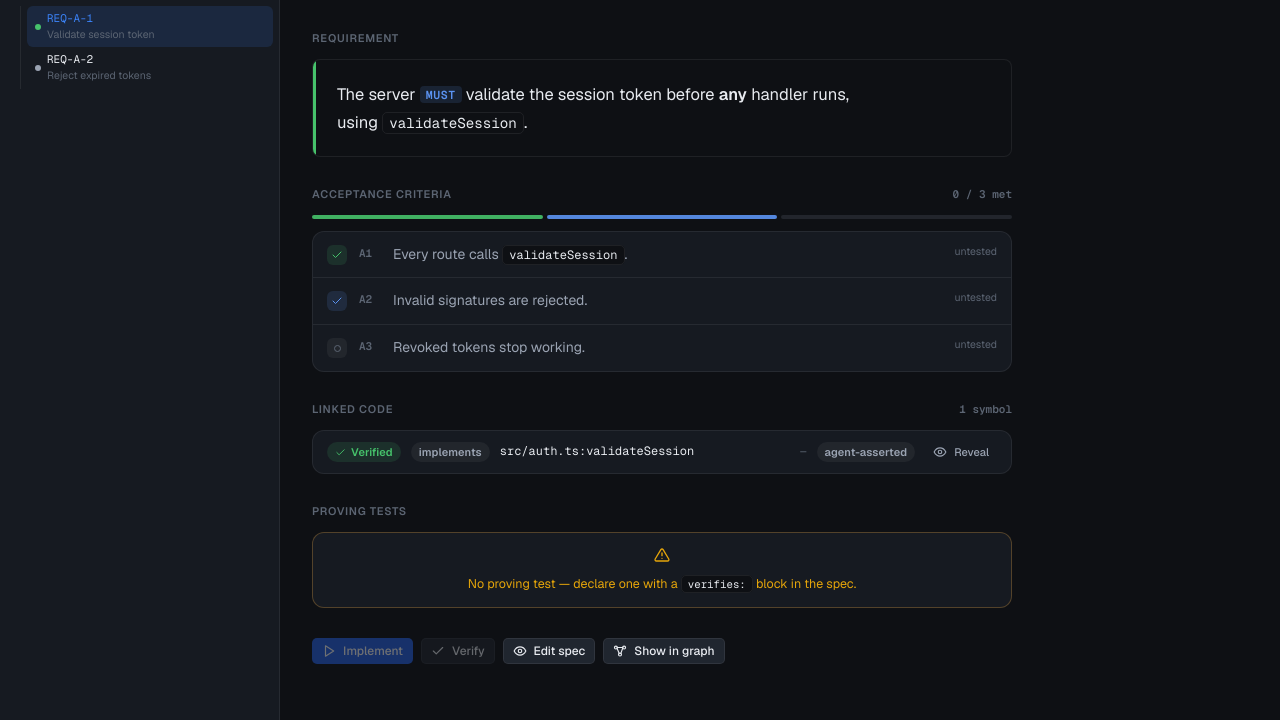
Test case: SpecEditor (REQ-DESKTOP-006…011) › 007: Save gates on by-value dirtiness; indicator carries its text label
Click the button "Edit spec".
click(549, 651)  # box [503, 638, 595, 664]
(page scrolled)
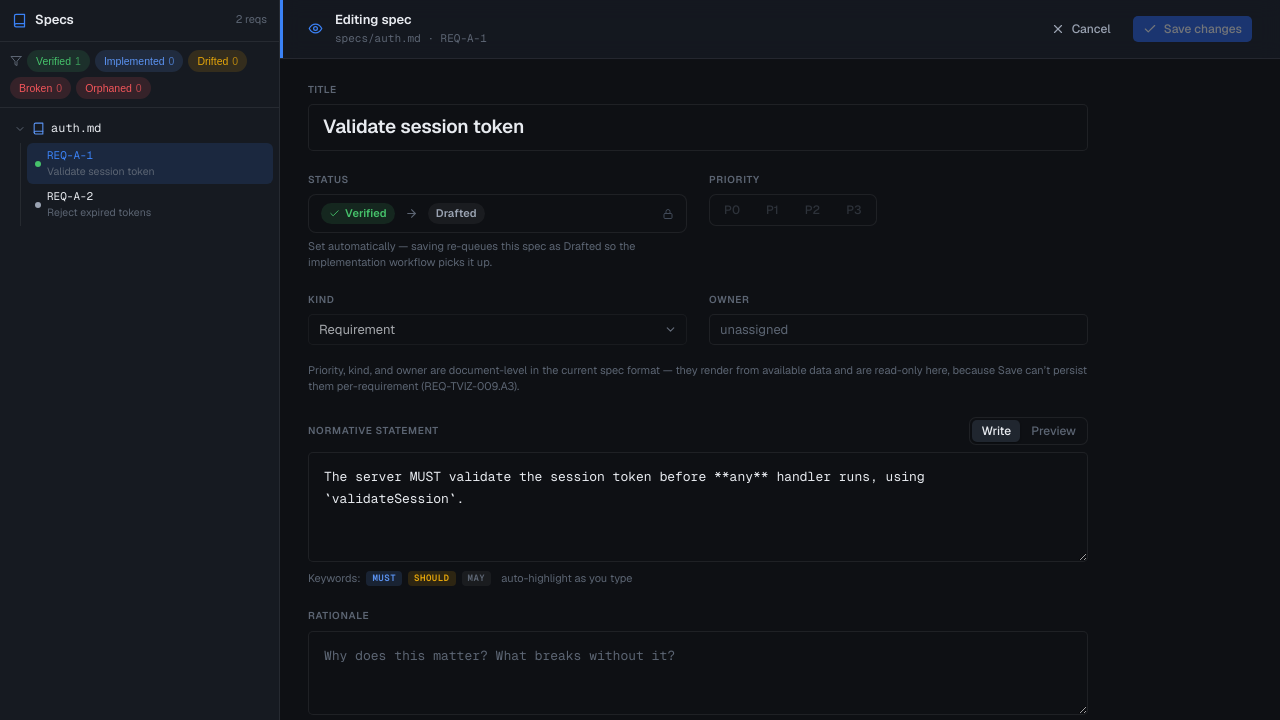
Expected: the text "Unsaved changes" is not shown
Now the button "Save changes" is disabled, box [1133, 16, 1252, 42]
Replace the text in the field named "title" with "Changed" at (698, 128), box [308, 104, 1088, 151]
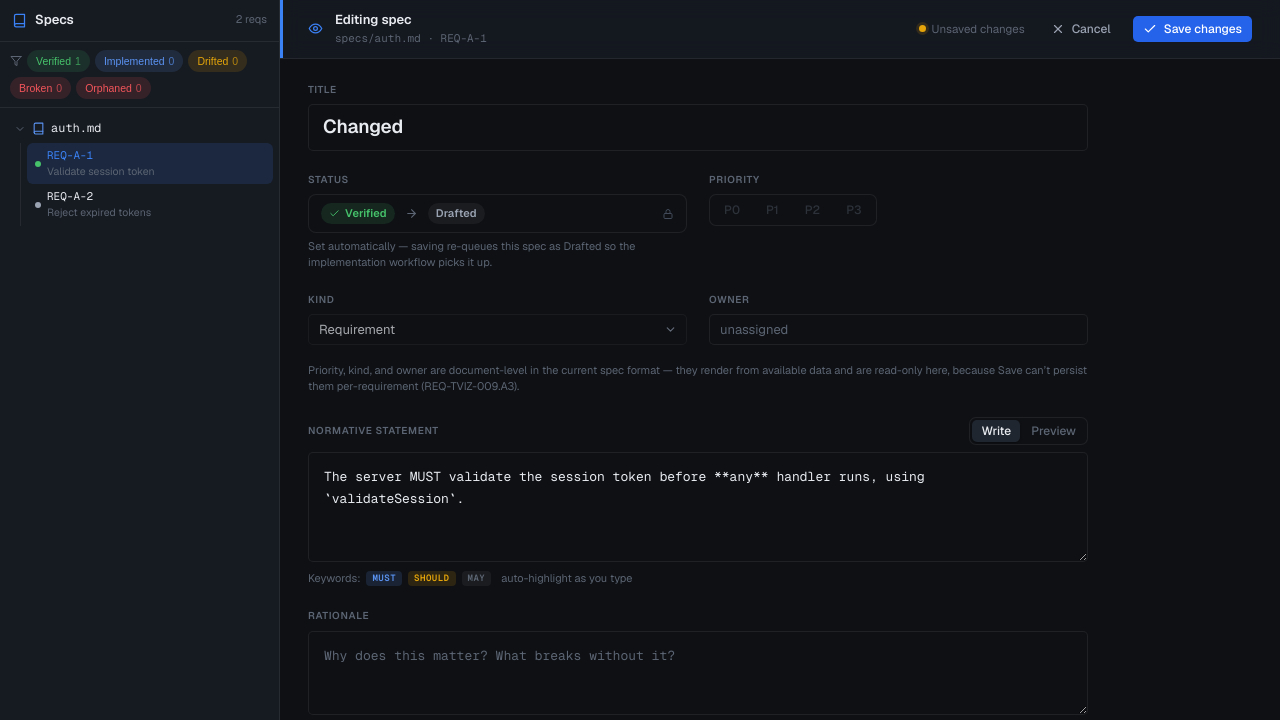
Now the button "Save changes" is enabled, box [1133, 16, 1252, 42]
Replace the text in the field named "title" with "Validate session token" at (698, 128), box [308, 104, 1088, 151]
(page scrolled)
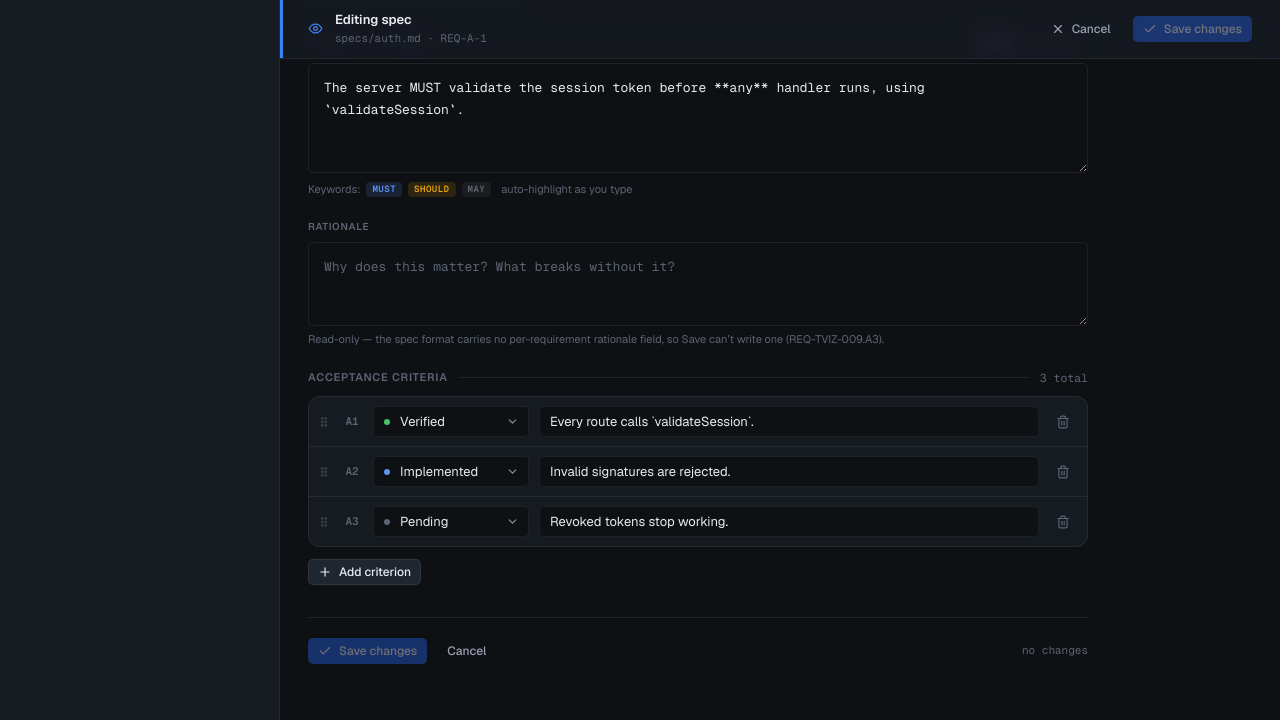
Now the button "Save changes" in the row of "specs/auth.md · REQ-A-1" is disabled, box [1133, 16, 1252, 42]
Now the text "Unsaved changes" is gone
Now the text "no changes" is shown, box [1022, 643, 1088, 659]
